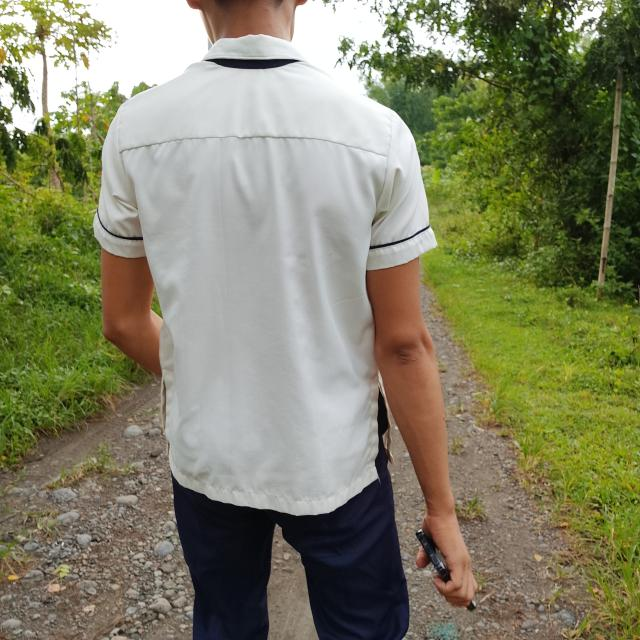education_male_uniform: (64, 18, 475, 518)
